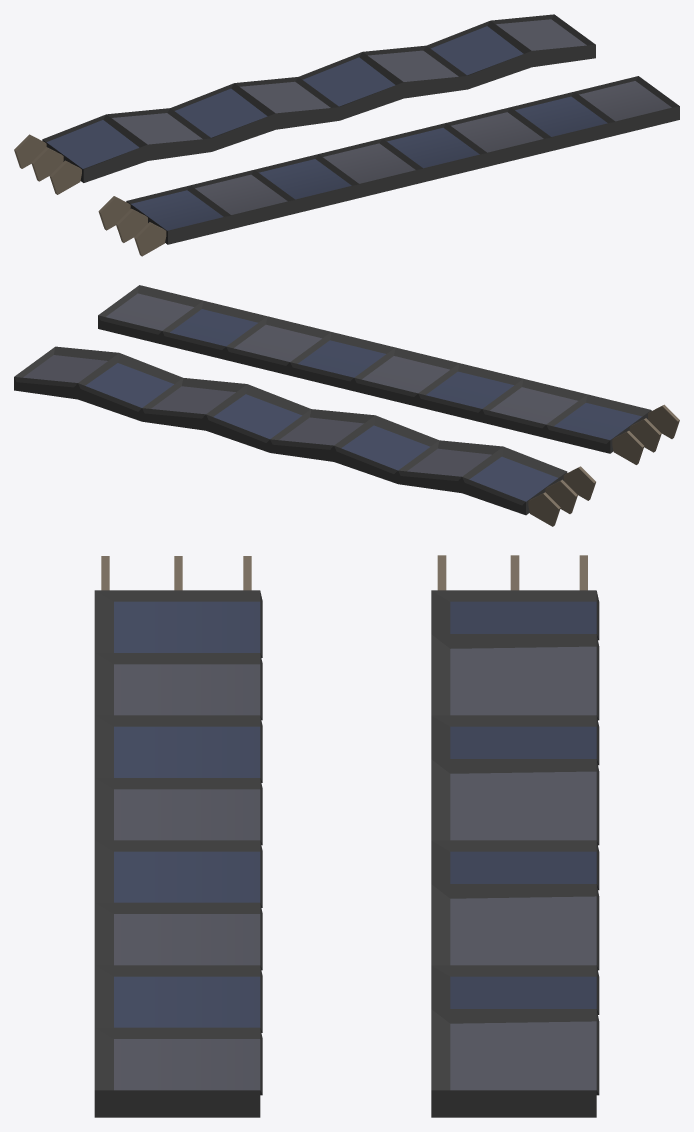
File: MoonThings.fbx
The picture shows the model from 3 angles, top to bottom: view 1: azimuth 30°, elevation 25°; view 2: azimuth 150°, elevation 25°; view 3: azimuth 270°, elevation 25°; orthographic projection. The views are drawn at different scales.
Visible parts, largest first — view 1: Cube.001, Cube; view 2: Cube.001, Cube; view 3: Cube.001, Cube.
Boxes of the visible parts, <box> form: Cube.001: <box>14,14,595,194</box>; Cube: <box>98,76,679,256</box>; Cube.001: <box>14,346,595,526</box>; Cube: <box>98,285,679,464</box>; Cube.001: <box>431,555,599,1117</box>; Cube: <box>94,556,262,1117</box>.
Bounding box in the file's own units: 1514 × 82.43 × 610.
